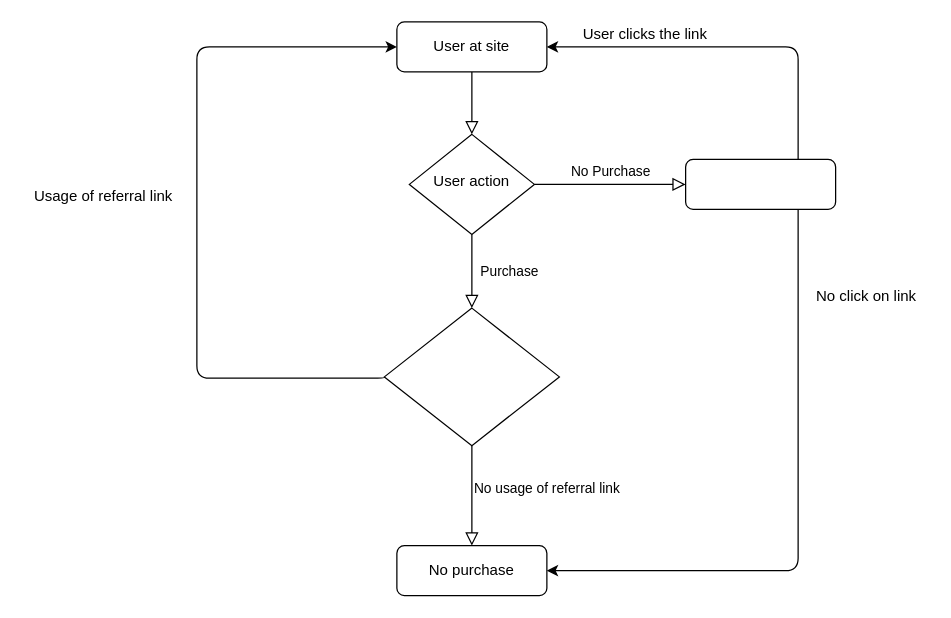
This 951x618 diagram has some shape labels left out. The centre of each missing label's shape, as x and y in pixels:
"User at blog or tracked site" belongs at (x=760, y=183).
"User referral link created" belongs at (x=471, y=376).
